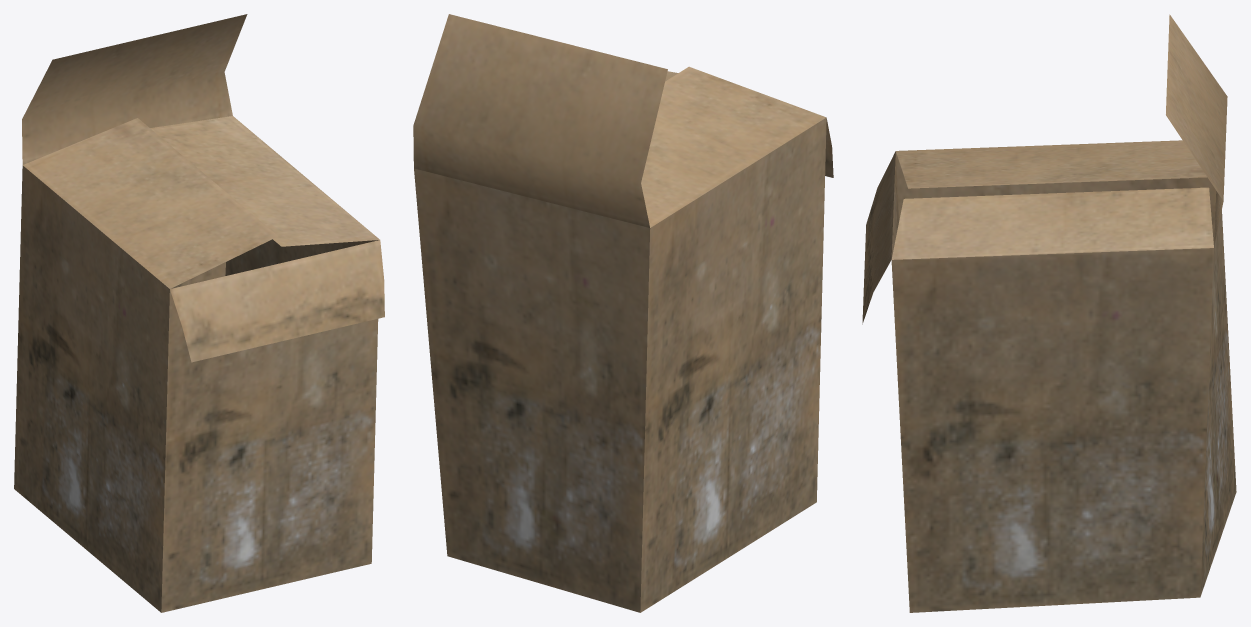
Rendered from CardboardBox_T01.FBX.
3 views of the same model, side by side, from view 1: azimuth 30°, elevation 25°; view 2: azimuth 150°, elevation 25°; view 3: azimuth 270°, elevation 25° (orthographic). The views are drawn at different scales.
Parts seen in each view (by area): view 1: CardboardBox_T01; view 2: CardboardBox_T01; view 3: CardboardBox_T01.
Boxes of the visible parts, x1,y1,x2,y2 form: CardboardBox_T01: [14, 14, 384, 612]; CardboardBox_T01: [413, 14, 833, 612]; CardboardBox_T01: [862, 14, 1236, 612].
Bounding box in the file's own units: 45.53 × 95.19 × 65.1.
